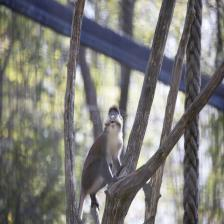monkey: (78, 108, 127, 191)
